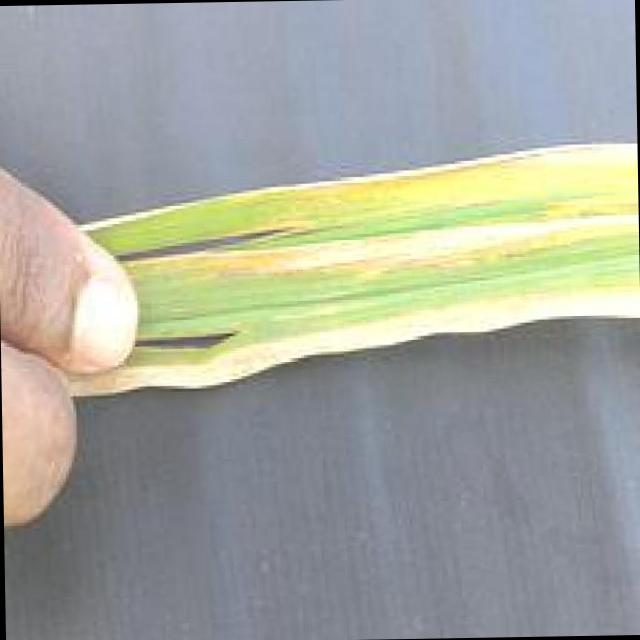Rice_Bacterial_Blight: (86, 160, 621, 370)
